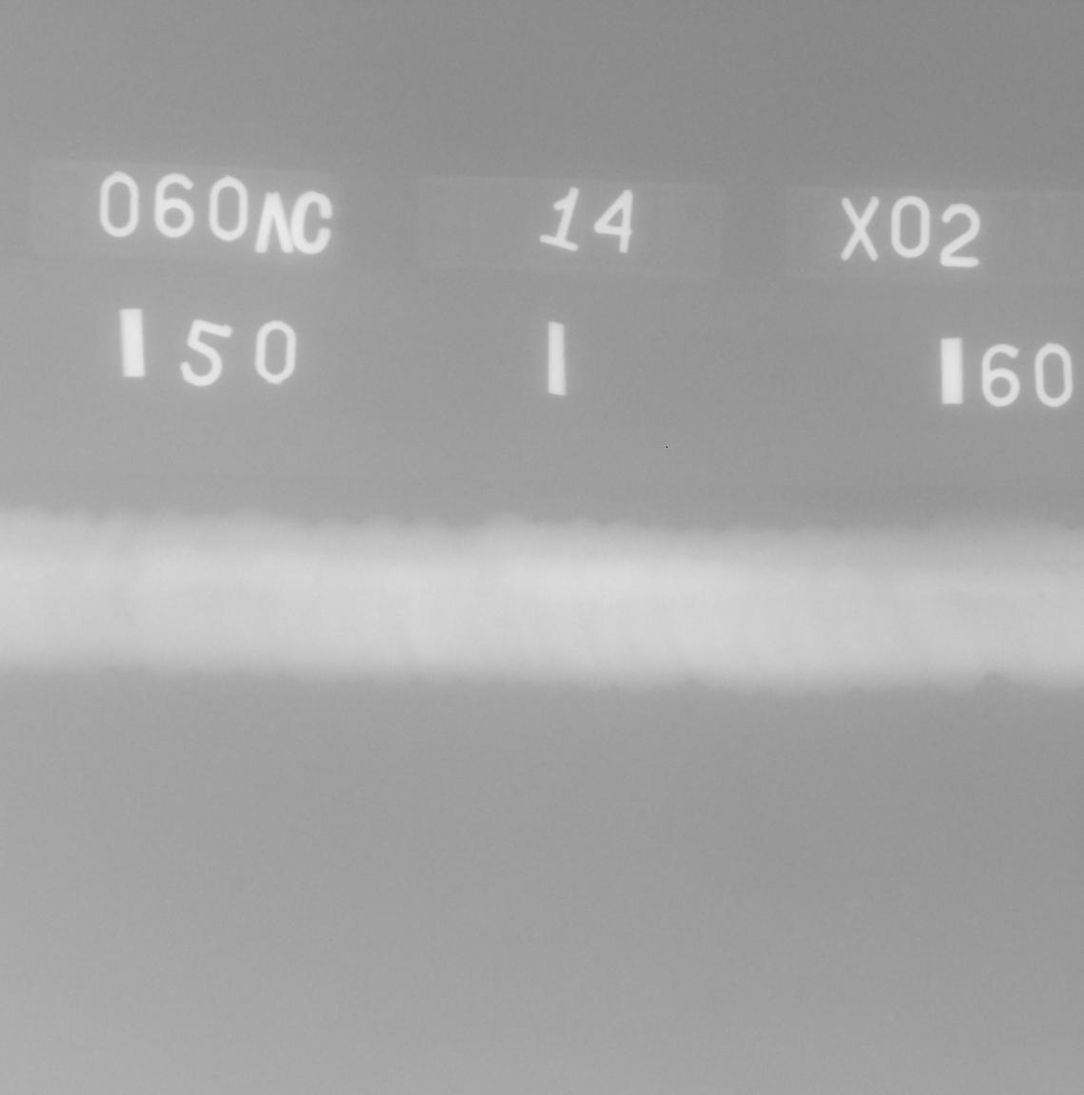Pore/Porosity: (1038, 590, 1045, 598), (517, 546, 522, 553), (984, 570, 989, 575)
